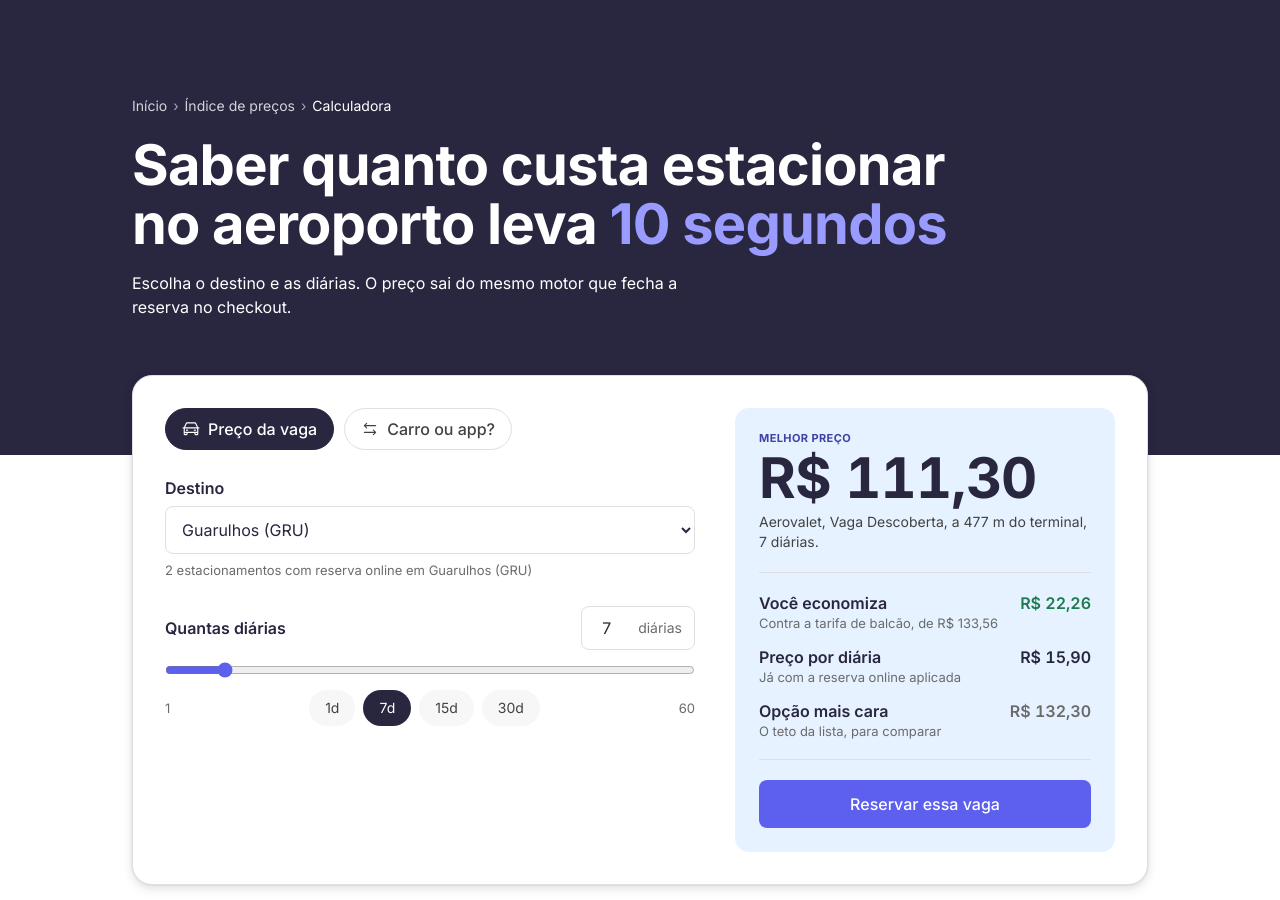
Test: CalculadoraPage › diárias fora de 1 a 60 são recusadas com mensagem, sem precisar de botão
Replace the text in the number field named "Diárias" with "99". click: (614, 628)
box: 594,616 -> 634,640
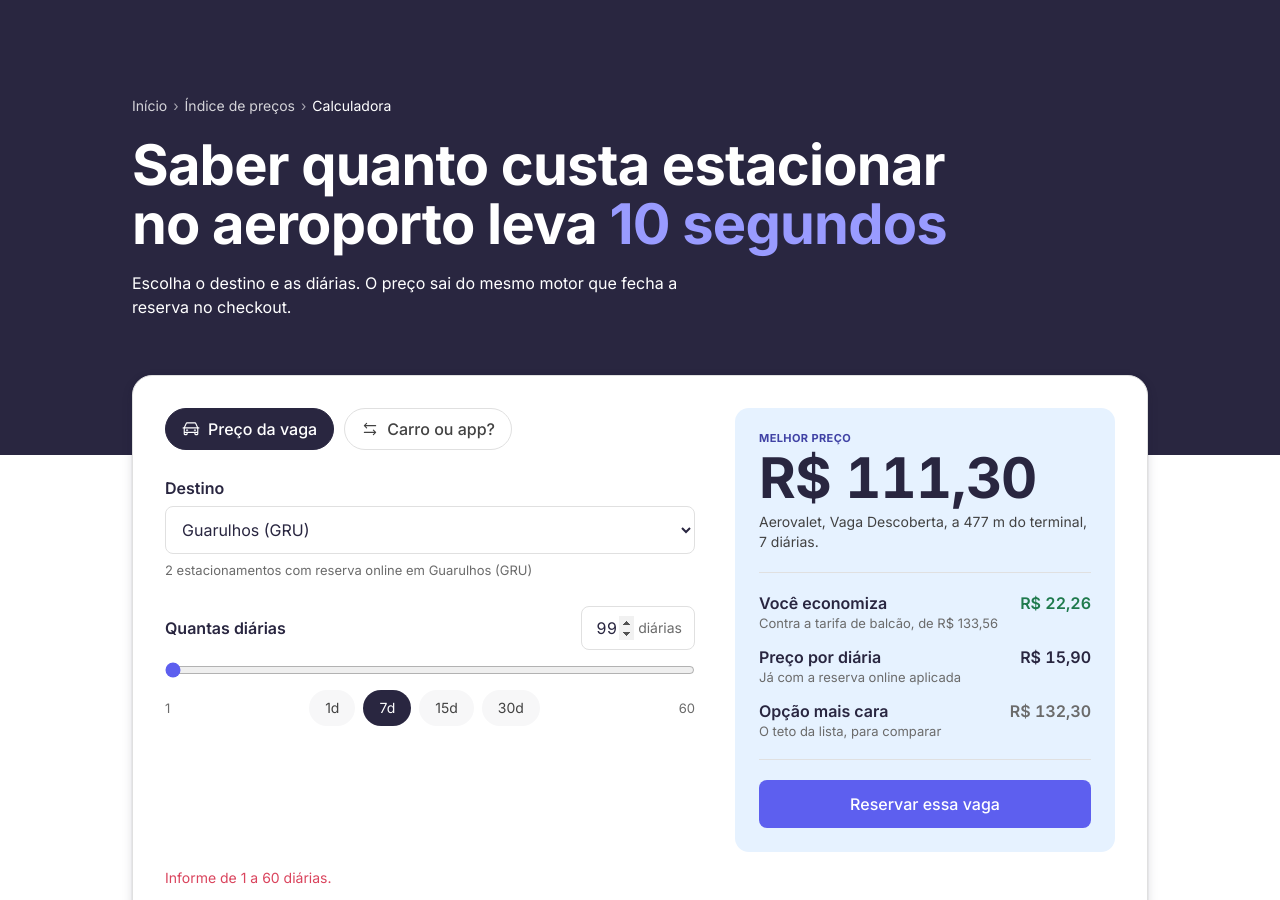
Now the message reads "Informe de 1 a 60 diárias.", box 165,869 -> 332,886
